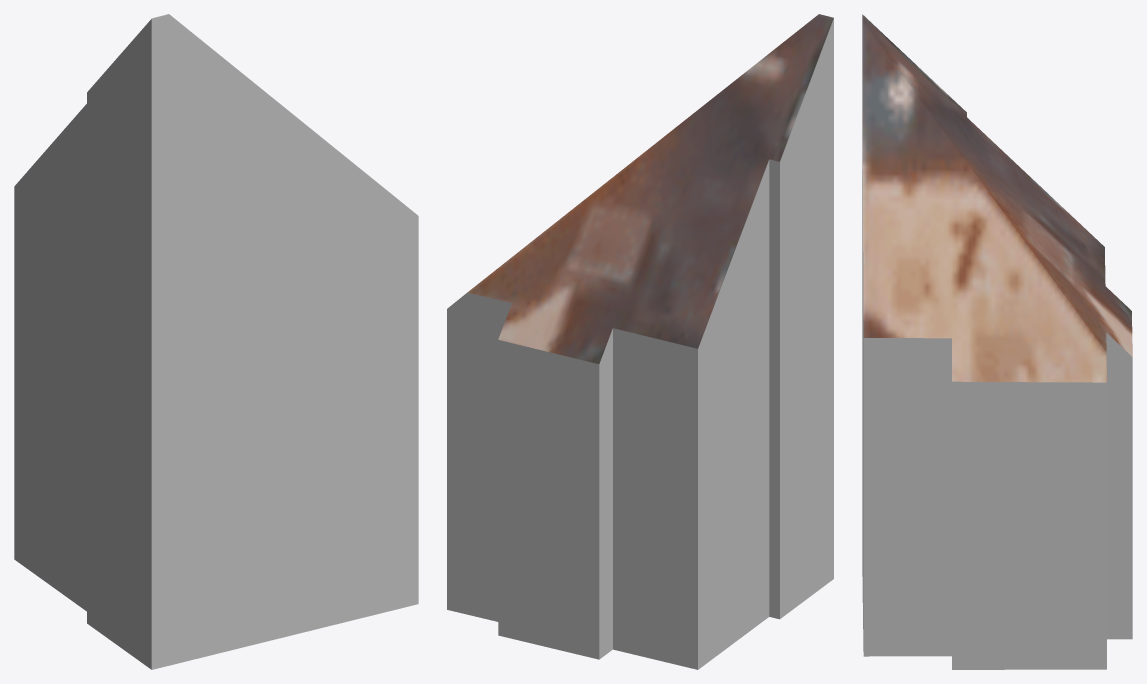
File: DEBW_0010007TxgE.gltf
3 views of the same model, side by side, from view 1: azimuth 30°, elevation 25°; view 2: azimuth 150°, elevation 25°; view 3: azimuth 270°, elevation 25° (orthographic). The views are drawn at different scales.
Visible parts, largest first — view 1: Z_UP; view 2: Z_UP; view 3: Z_UP.
Boxes of the visible parts, bbox=[...] form: Z_UP: bbox=[14, 14, 418, 669]; Z_UP: bbox=[447, 14, 833, 669]; Z_UP: bbox=[862, 14, 1132, 669].
Bounding box in the file's own units: 12.32 × 25.37 × 11.62.
Materials: 2 (1 with a texture image).
